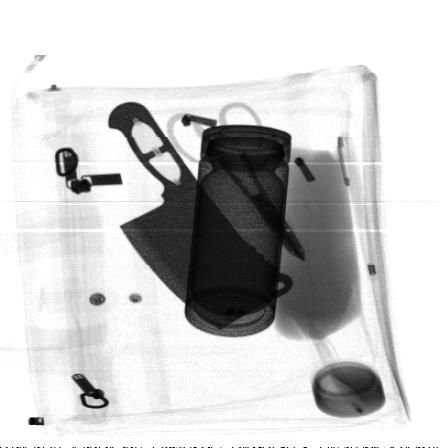Knife: (106, 101, 293, 330)
Scissors: (167, 101, 306, 261)
